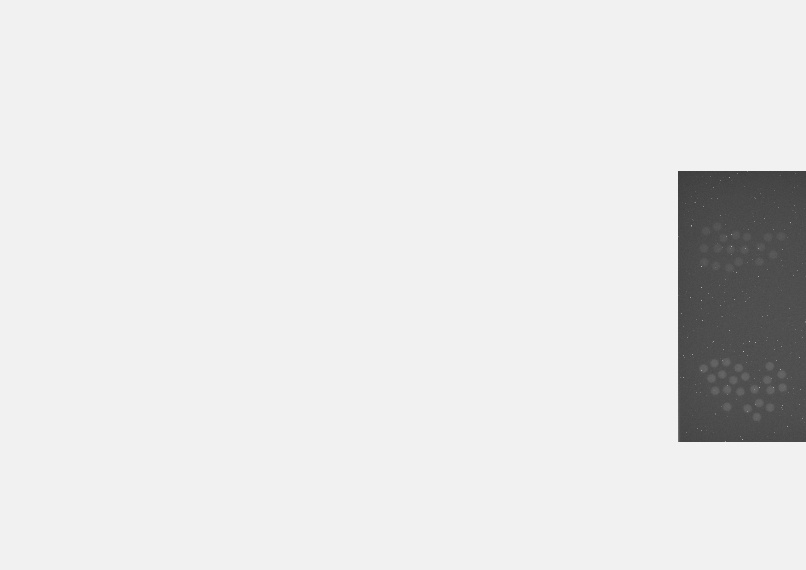cluster: (699, 357, 788, 422), (698, 221, 788, 273)
